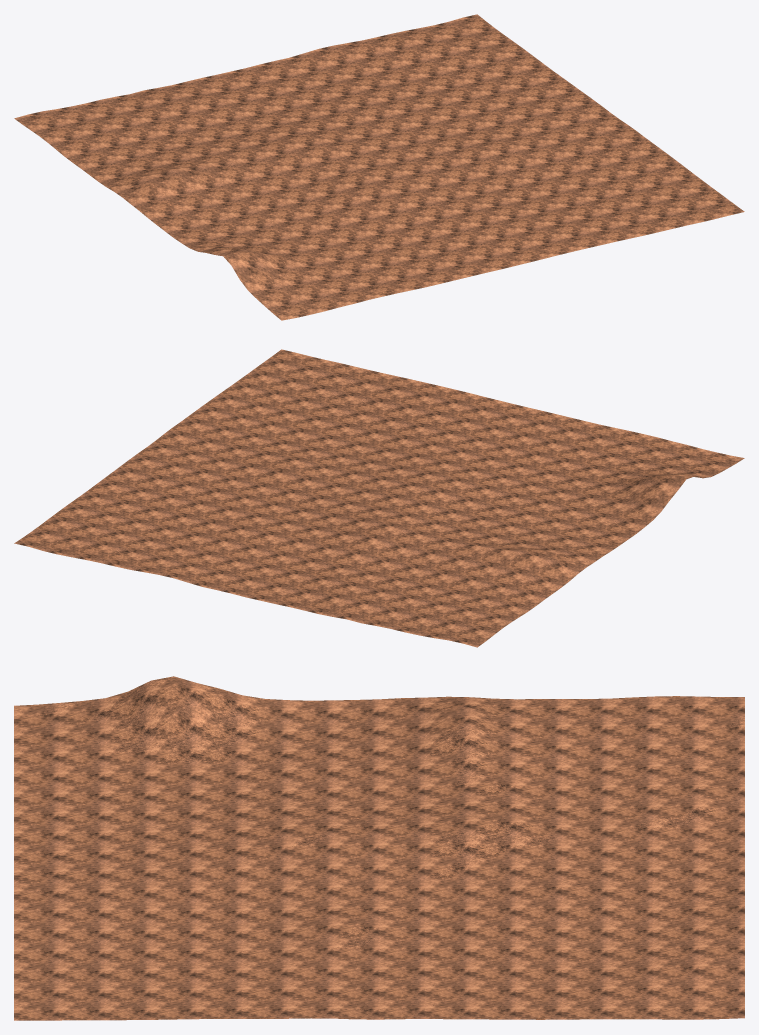
The model's file is terrain_00_04.dae.
3 views of the same model, one above another, from view 1: azimuth 30°, elevation 25°; view 2: azimuth 150°, elevation 25°; view 3: azimuth 270°, elevation 25° (orthographic). The views are drawn at different scales.
Parts seen in each view (by area): view 1: terrain_00_04-node; view 2: terrain_00_04-node; view 3: terrain_00_04-node.
Part boxes in pixels (x1,y1,x2,y2): terrain_00_04-node: (14, 14, 744, 320); terrain_00_04-node: (14, 349, 744, 647); terrain_00_04-node: (14, 676, 744, 1020).
Bounding box in the file's own units: 128 × 128 × 6.84.
1 material, 1 textured.
